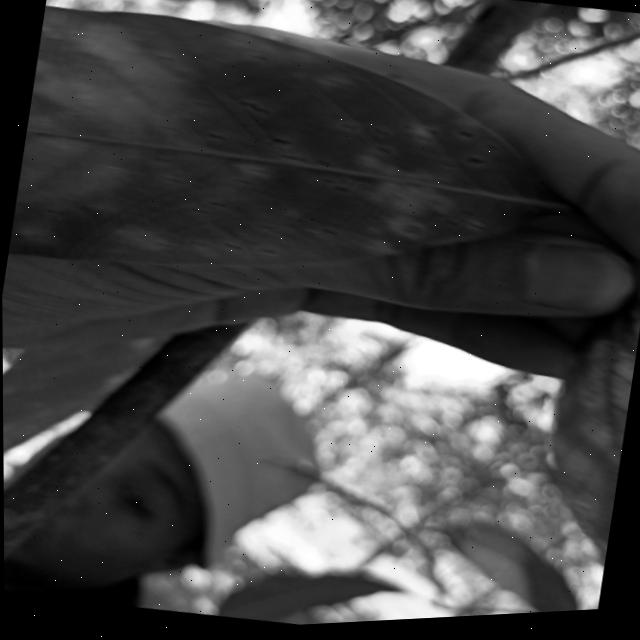Leaf-Blight: (603, 356, 636, 423)
